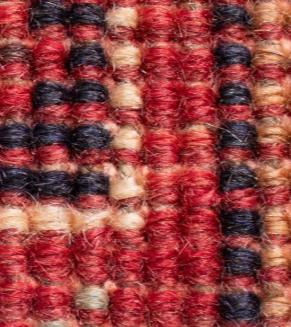Knot: (108, 85, 144, 112), (144, 186, 180, 213), (219, 169, 253, 197), (29, 234, 62, 262), (140, 145, 174, 172), (110, 209, 143, 235), (29, 299, 63, 324), (141, 212, 172, 239), (183, 186, 214, 213), (68, 261, 99, 287), (32, 145, 62, 171), (110, 128, 141, 151), (177, 64, 206, 88), (74, 148, 104, 171), (155, 308, 185, 325), (115, 160, 138, 180), (113, 109, 138, 127), (82, 229, 102, 250), (70, 212, 84, 231), (70, 231, 82, 250)
